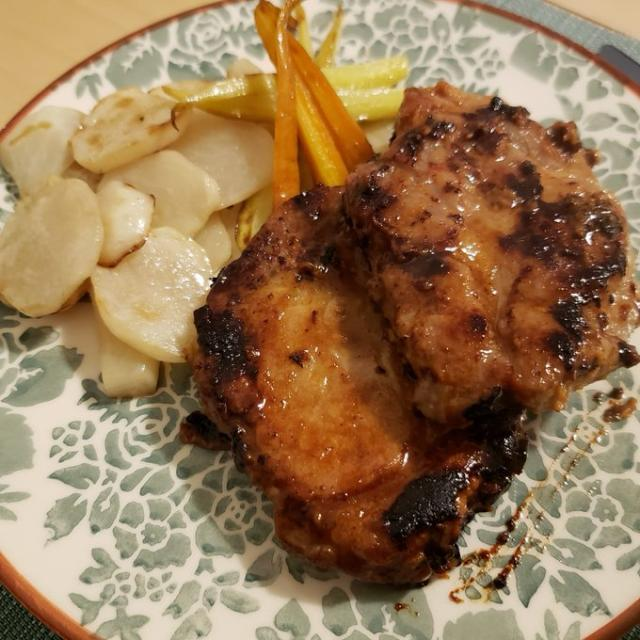overcooked pork: (174, 75, 640, 616)
